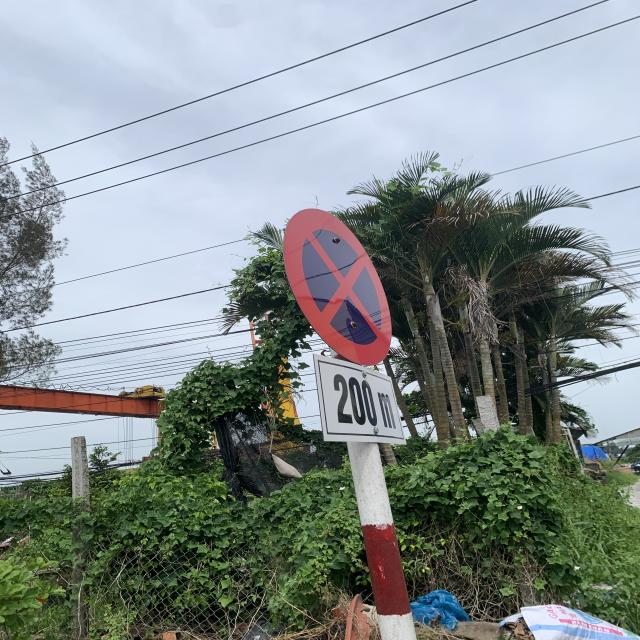Cam_Dung_Va_Dau_Xe: (282, 205, 393, 369)
